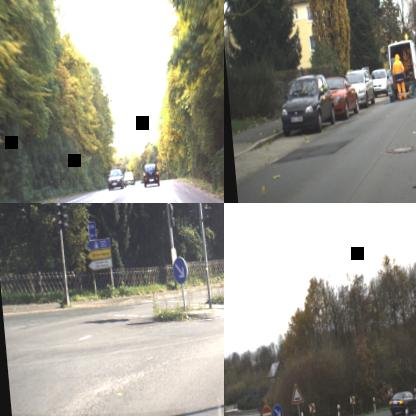NO ENTRY: (261, 405, 272, 416)
keep right: (171, 256, 189, 284), (272, 403, 284, 416)
uneven road: (290, 382, 305, 404)
